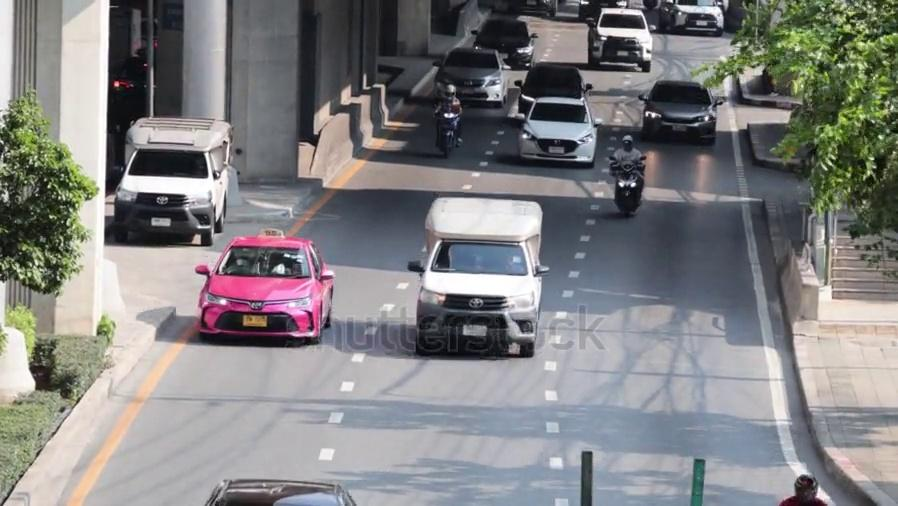rider: (608, 134, 646, 204), (432, 83, 462, 158)
with_helmate: (777, 472, 830, 505), (441, 84, 457, 101), (621, 136, 634, 149)
